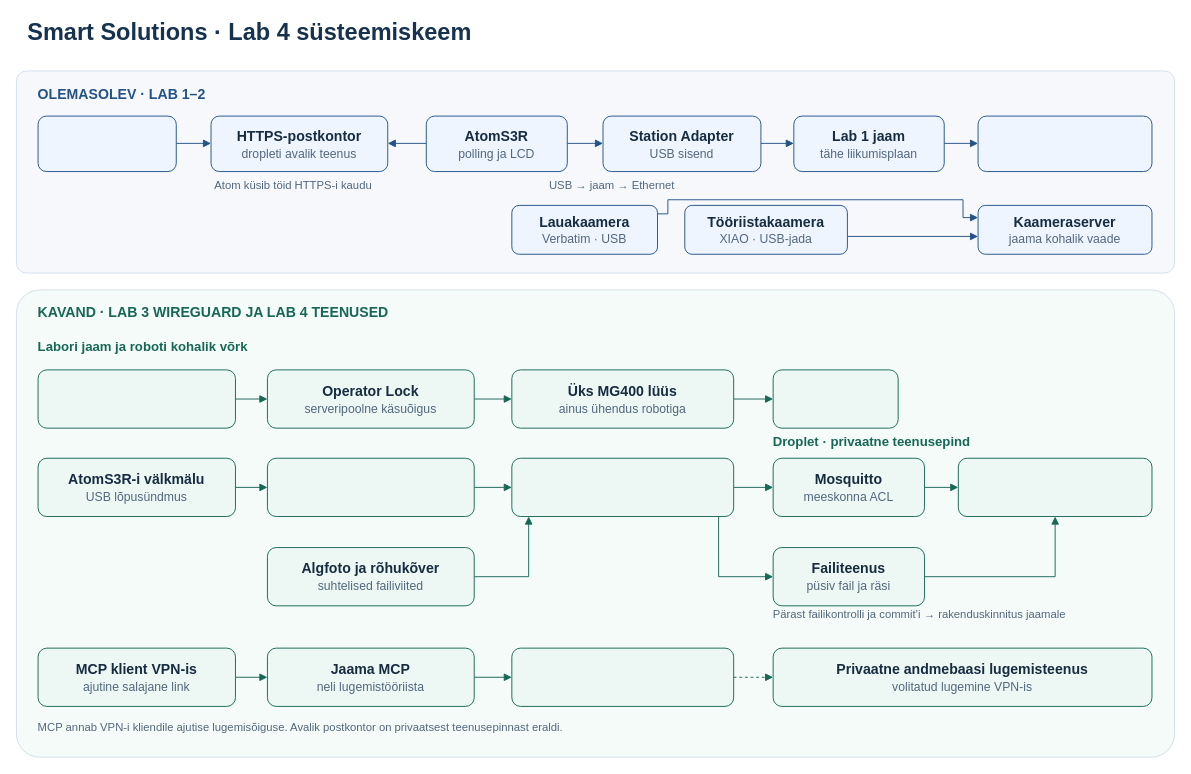
Some shapes in this 1191 by 774 pixel diagram are drawn without their labels. Each missing label, with the centre of its shape:
Brauser avalik veeb: point (106, 143)
Jaama lugemisvaated olek, kirjed ja kaadrid: point (622, 676)
Jaama püsipuhver tsüklikirje + failiviited: point (370, 487)
Kirjutaja ja SQLite üks rida tsükli kohta: point (1054, 487)
MG400 kohalik Ethernet: point (1064, 143)
MG400 kohalik robot: point (835, 398)
Privaatne WireGuard MQTT QoS 1 ja failitee: point (622, 487)
Töövoo salvestaja Jog / Picker ja poosid: point (136, 398)
